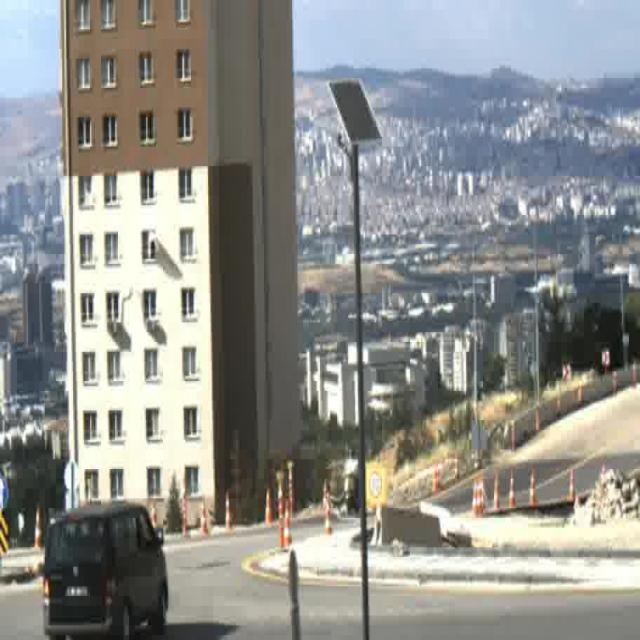Car: (42, 503, 166, 640)
Motorcycle: (344, 449, 361, 518)
